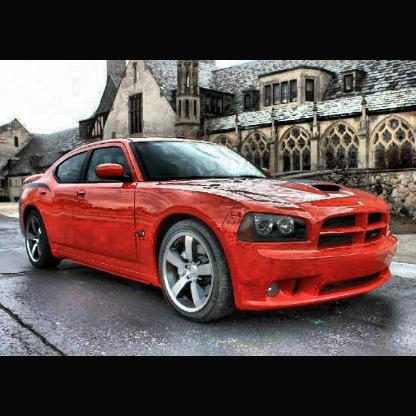Dodge Charger SRT-8 2009: (20, 137, 401, 327)
